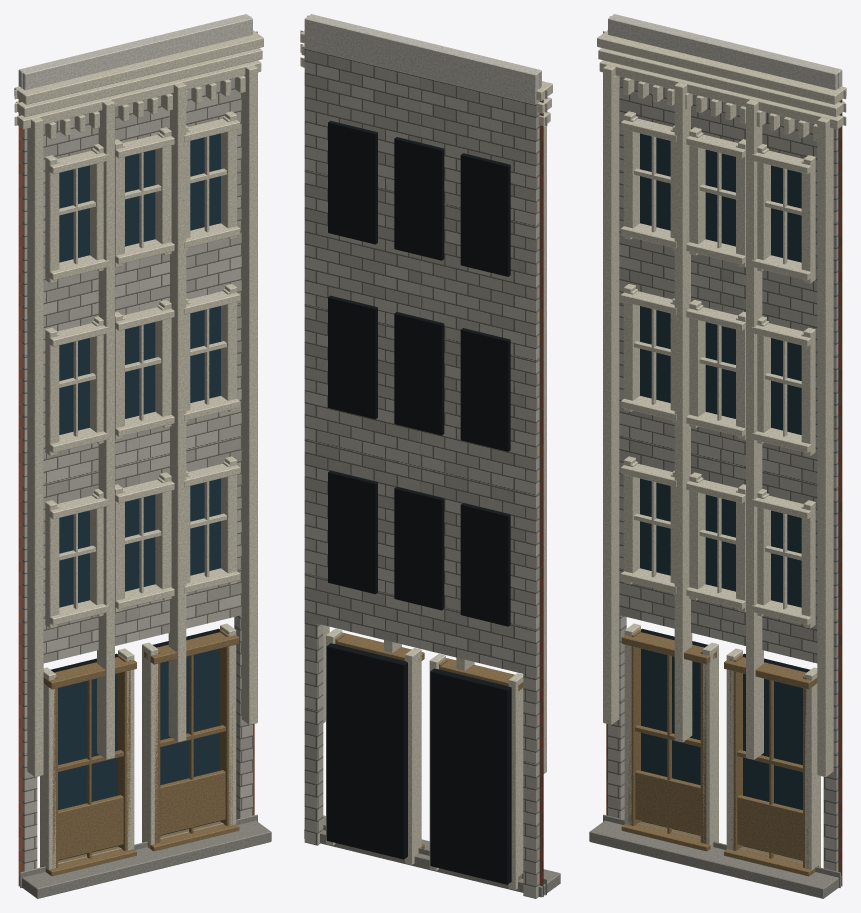
Rendered from OFFC20_lod1.glb.
3 views of the same model, side by side, from view 1: azimuth 30°, elevation 25°; view 2: azimuth 150°, elevation 25°; view 3: azimuth 330°, elevation 25° (orthographic).
Visible parts, largest first — view 1: OFFC20_FRONT_LOD1; view 2: OFFC20_FRONT_LOD1; view 3: OFFC20_FRONT_LOD1.
Boxes of the visible parts, x1,y1,x2,y2 form: OFFC20_FRONT_LOD1: (14,14,271,898); OFFC20_FRONT_LOD1: (300,14,560,898); OFFC20_FRONT_LOD1: (589,14,846,898).
Bounding box in the file's own units: 3.84 × 12.26 × 0.68.
Materials: 9 (7 with a texture image).
